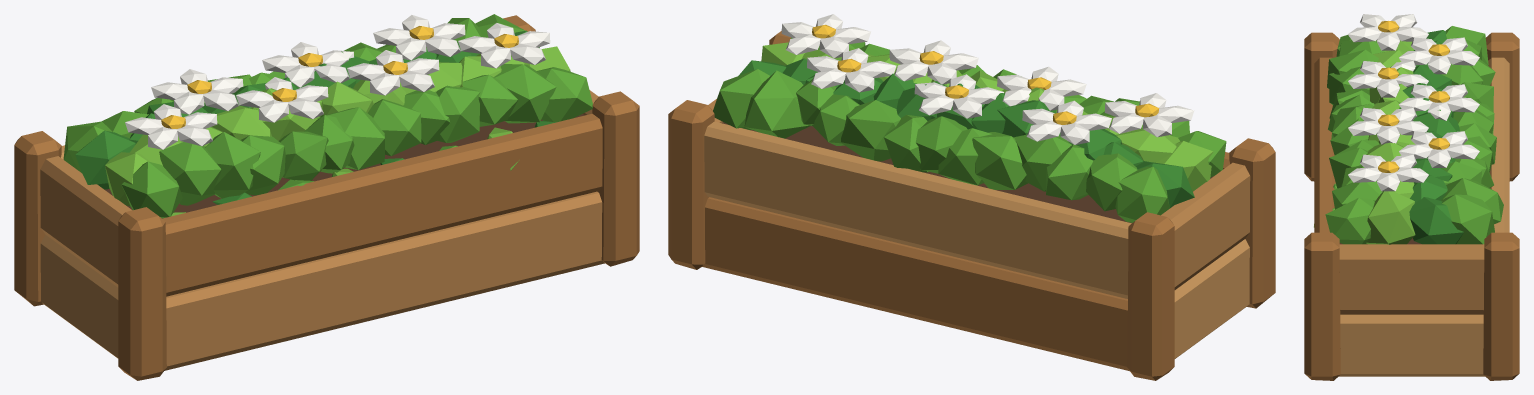
The model's file is rect_planter.glb.
3 views of the same model, side by side, from view 1: azimuth 30°, elevation 25°; view 2: azimuth 150°, elevation 25°; view 3: azimuth 270°, elevation 25° (orthographic). The views are drawn at different scales.
Parts seen in each view (by area): view 1: rect_planter; view 2: rect_planter; view 3: rect_planter.
Part boxes in pixels (x1,y1,x2,y2): rect_planter: (14,14,639,380); rect_planter: (668,14,1275,380); rect_planter: (1304,14,1519,380).
Bounding box in the file's own units: 1.3 × 0.5257 × 0.55.
